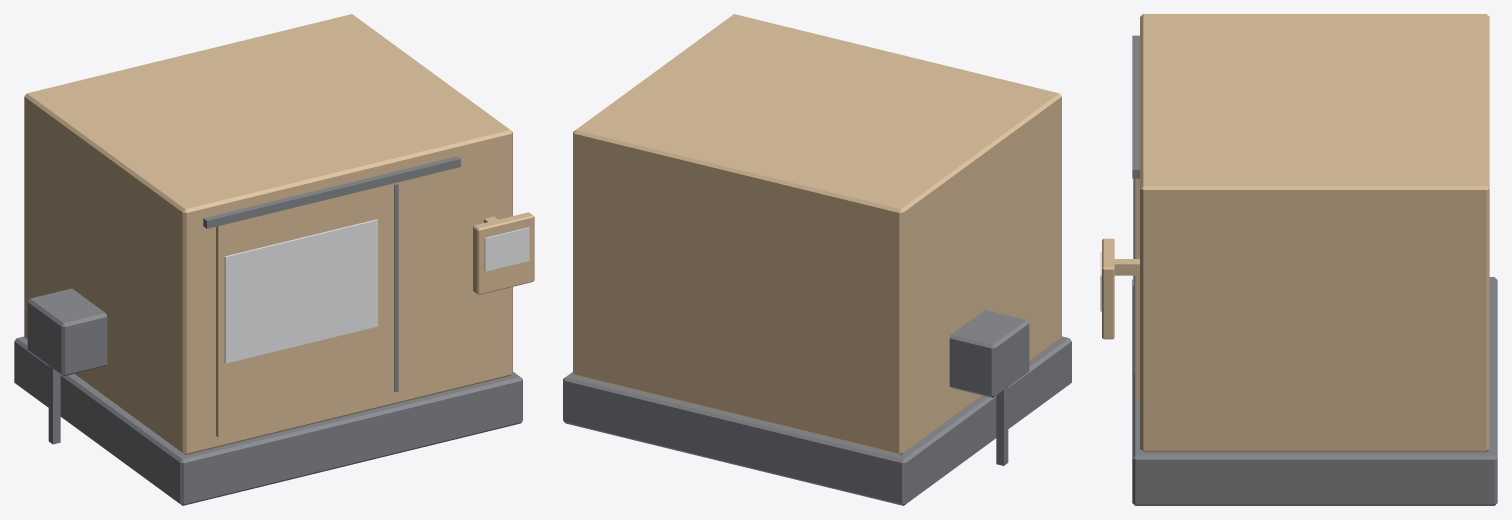
File: cnc_mill.glb
The picture shows the model from 3 angles, left to right: view 1: azimuth 30°, elevation 25°; view 2: azimuth 150°, elevation 25°; view 3: azimuth 270°, elevation 25°; orthographic projection. The views are drawn at different scales.
Visible parts, largest first — view 1: cnc_mill; view 2: cnc_mill; view 3: cnc_mill.
Part boxes in pixels (x1,y1,x2,y2): cnc_mill: [14, 14, 534, 505]; cnc_mill: [563, 14, 1071, 505]; cnc_mill: [1100, 14, 1497, 505].
Size of the model in its own units: 3 by 2.2 by 2.5.
